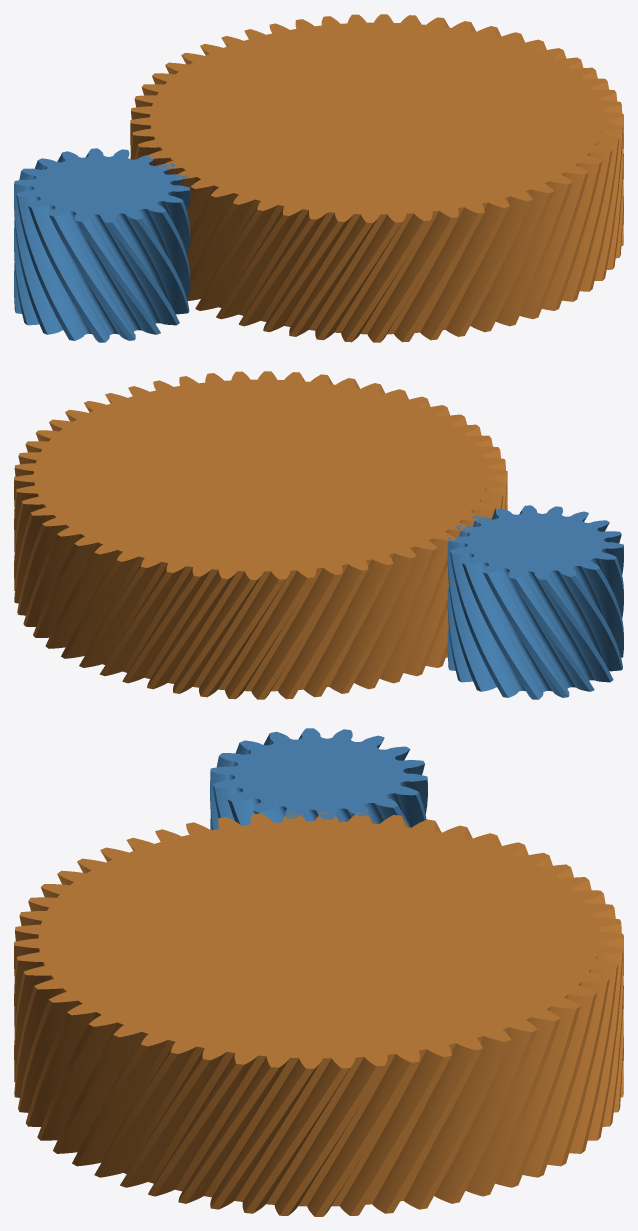
File: helical_gear_pair.glb
The picture shows the model from 3 angles, top to bottom: view 1: azimuth 30°, elevation 25°; view 2: azimuth 150°, elevation 25°; view 3: azimuth 270°, elevation 25°; orthographic projection. The views are drawn at different scales.
Parts seen in each view (by area): view 1: Helical_Gear, Helical_Pinion; view 2: Helical_Gear, Helical_Pinion; view 3: Helical_Gear, Helical_Pinion.
Part boxes in pixels (left/top/right/bottom): Helical_Gear: left=130, top=14, right=623, bottom=342; Helical_Pinion: left=14, top=148, right=190, bottom=342; Helical_Gear: left=14, top=371, right=507, bottom=699; Helical_Pinion: left=447, top=505, right=623, bottom=699; Helical_Gear: left=14, top=811, right=623, bottom=1216; Helical_Pinion: left=210, top=728, right=427, bottom=830.
Size of the model in its own units: 342 by 69.28 by 259.
